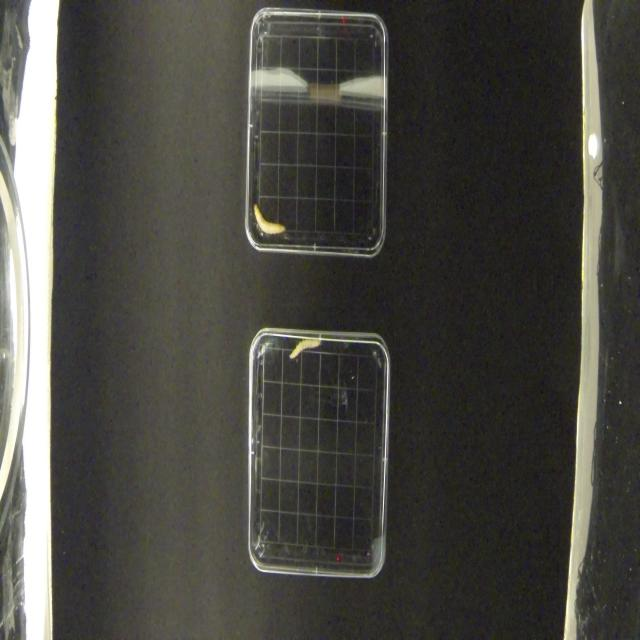larva: (253, 203, 286, 235), (289, 337, 321, 360)
